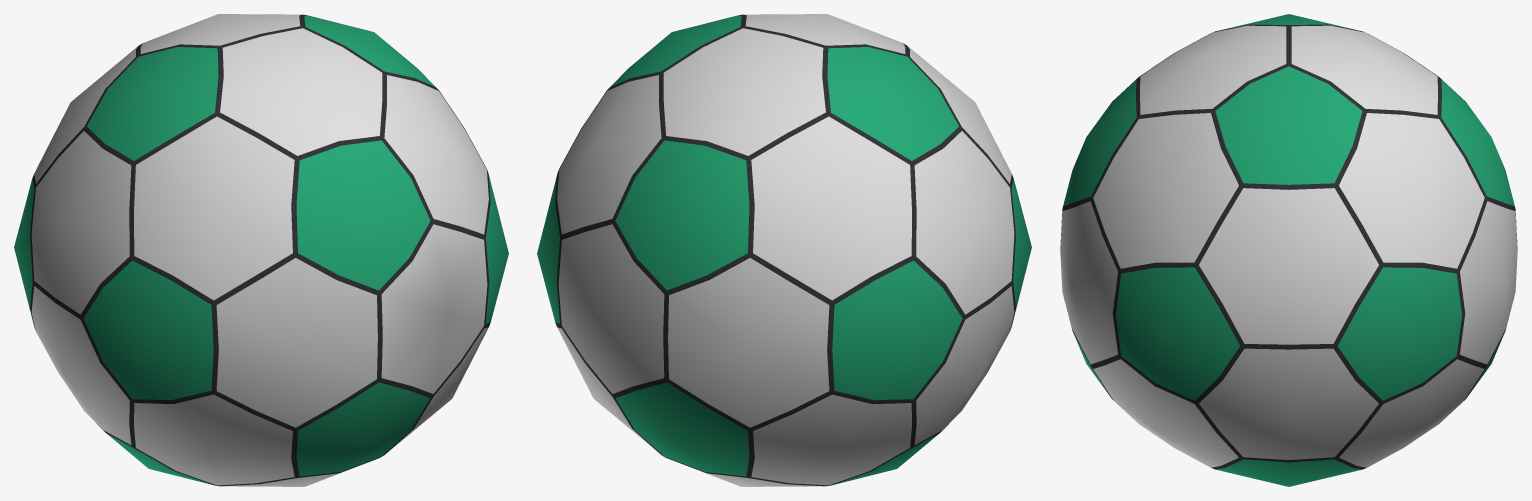
The model's file is lp_ball.glb.
The picture shows the model from 3 angles, left to right: view 1: azimuth 30°, elevation 25°; view 2: azimuth 150°, elevation 25°; view 3: azimuth 270°, elevation 25°; orthographic projection. The views are drawn at different scales.
Parts seen in each view (by area): view 1: ball; view 2: ball; view 3: ball.
Boxes of the visible parts, x1,y1,x2,y2 form: ball: (14,14,508,486); ball: (537,14,1031,486); ball: (1060,14,1517,486).
Bounding box in the file's own units: 1.52 × 1.52 × 1.52.
